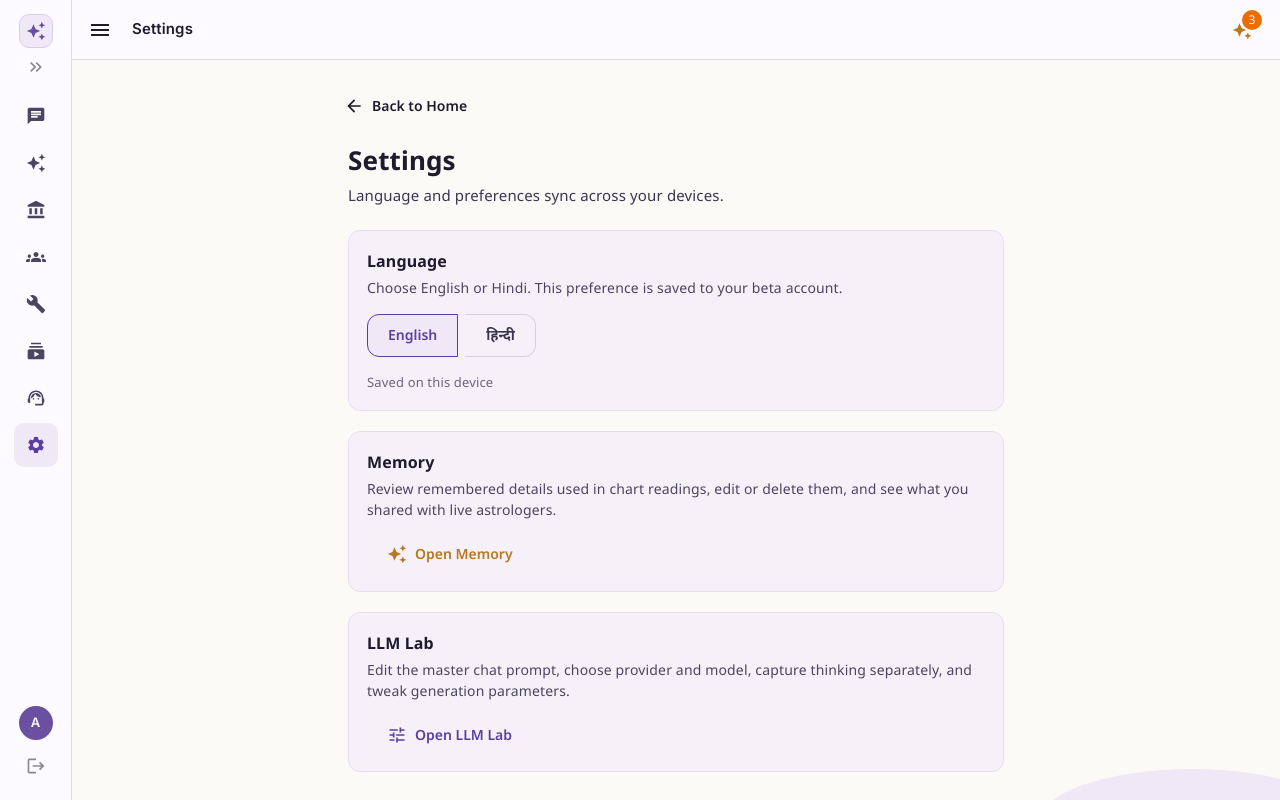
settings links to LLM Lab and the lab page loads
Expected: the heading "Settings" is shown, [348,142,456,178]
Click the button "Open LLM Lab". click: click(452, 735)
box: [367,716,536,753]
(page scrolled)
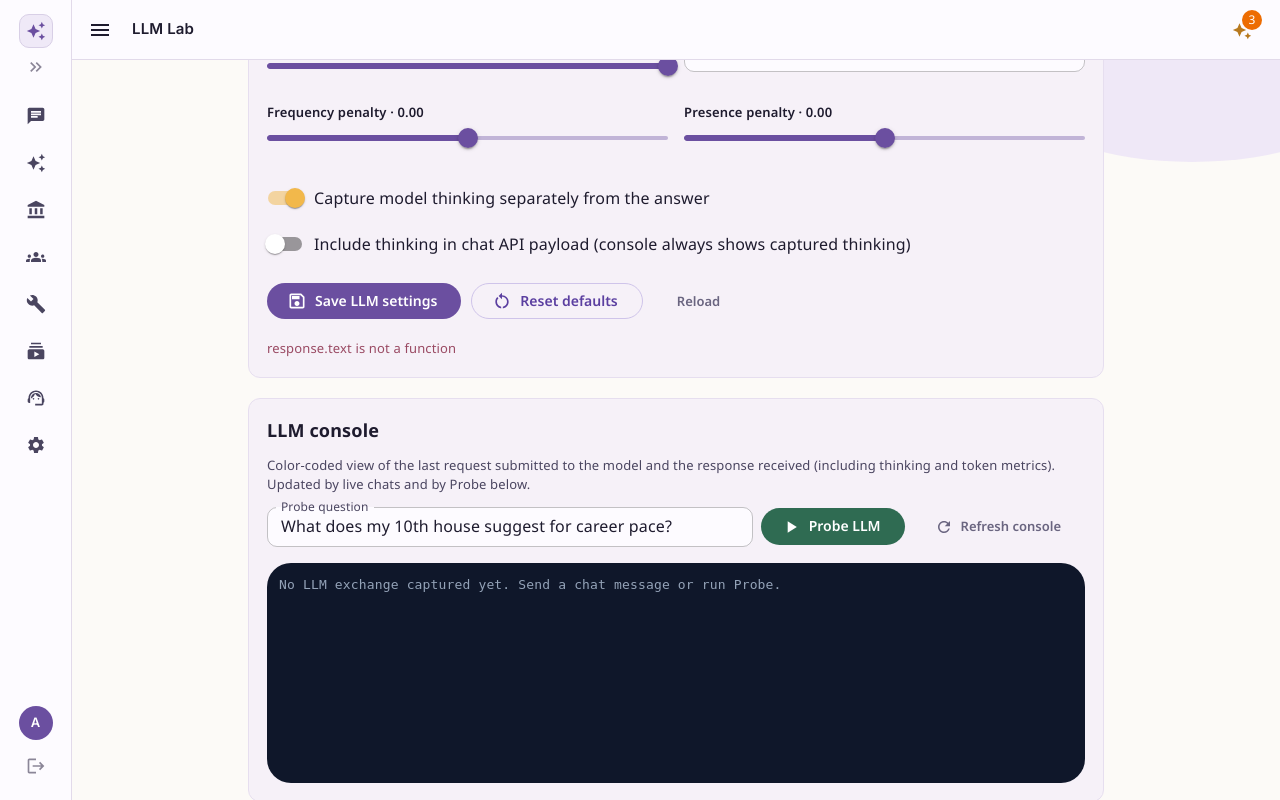
Result: the button "Save LLM settings" is shown at [267,283,461,319]
Result: the button "Reset defaults" is shown at [471,283,643,319]
Result: the heading "LLM console" is shown at [267,418,379,442]
